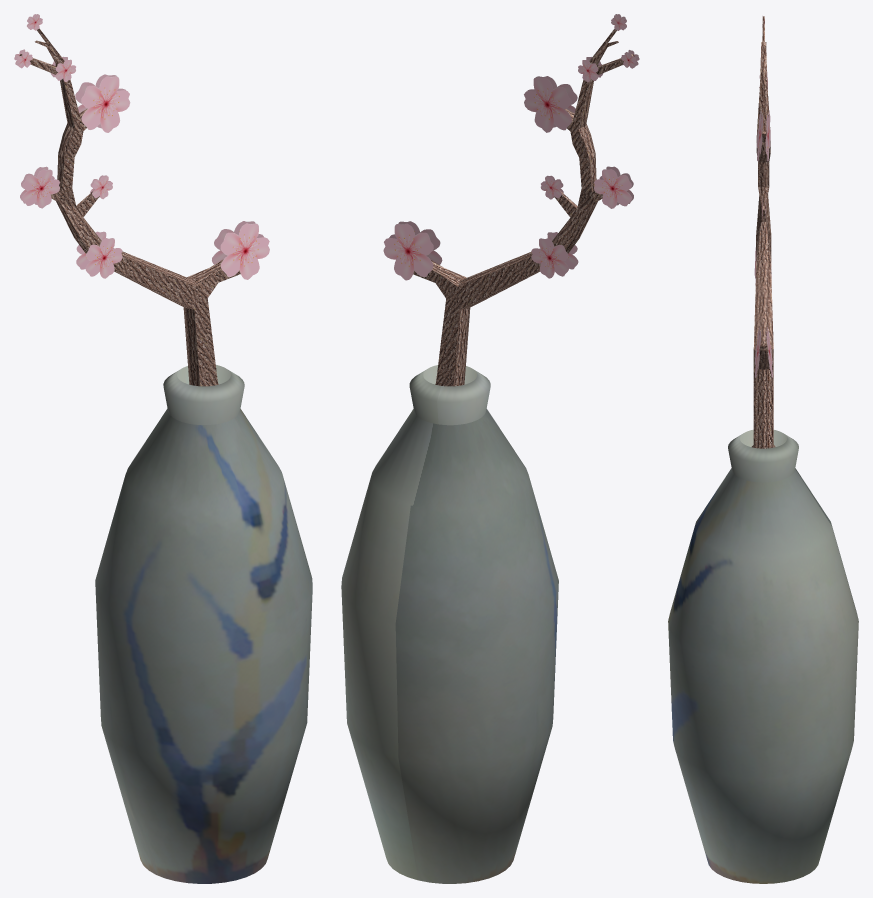
The model's file is Florero.obj.
The picture shows the model from 3 angles, left to right: view 1: azimuth 30°, elevation 25°; view 2: azimuth 150°, elevation 25°; view 3: azimuth 270°, elevation 25°; orthographic projection. The views are drawn at different scales.
Parts seen in each view (by area): view 1: Plane.004_Plane.001; view 2: Plane.004_Plane.001; view 3: Plane.004_Plane.001.
Part boxes in pixels (x1,y1,x2,y2): Plane.004_Plane.001: [14, 14, 312, 883]; Plane.004_Plane.001: [341, 14, 639, 883]; Plane.004_Plane.001: [668, 16, 858, 883].
Size of the model in its own units: 0.3194 by 0.9543 by 0.2134.
Materials: 3 (3 with a texture image).
